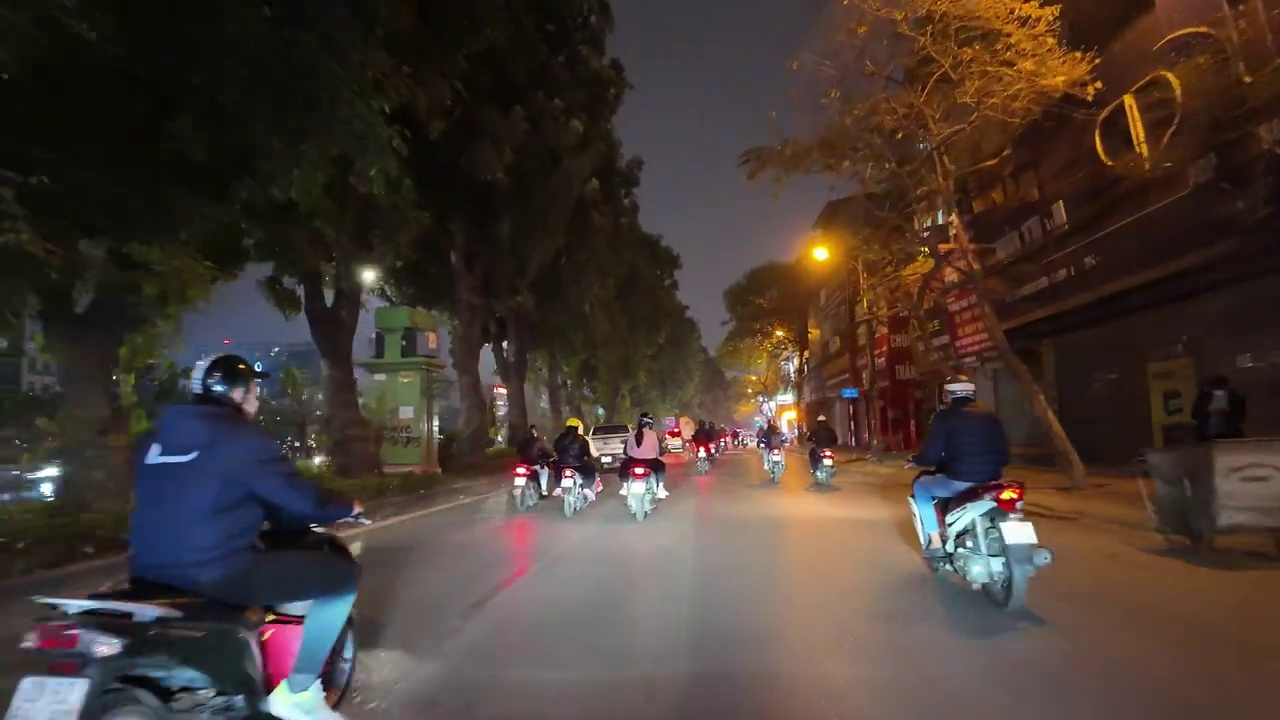acesa: (801, 236, 843, 274), (356, 264, 384, 291)
